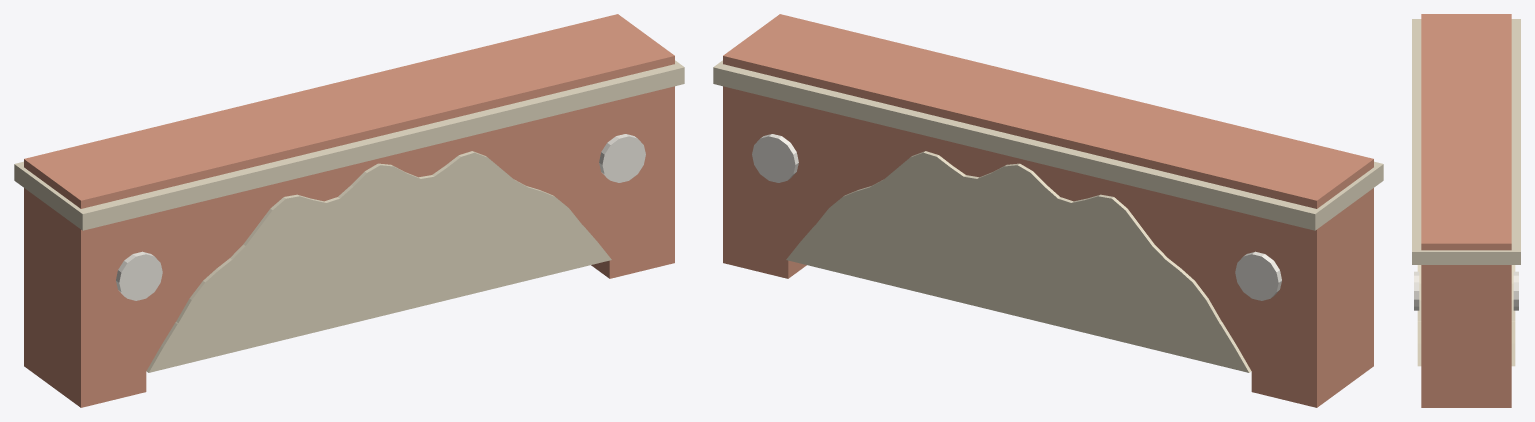
File: kit_arch_span2.glb
The picture shows the model from 3 angles, left to right: view 1: azimuth 30°, elevation 25°; view 2: azimuth 150°, elevation 25°; view 3: azimuth 270°, elevation 25°; orthographic projection. The views are drawn at different scales.
Visible parts, largest first — view 1: kit_arch_span2; view 2: kit_arch_span2; view 3: kit_arch_span2.
Boxes of the visible parts, box(x1,y1,x2,y2) form: kit_arch_span2: box(14, 14, 684, 407); kit_arch_span2: box(713, 14, 1383, 407); kit_arch_span2: box(1412, 14, 1520, 407).
Size of the model in its own units: 3.04 by 0.9998 by 0.6001.
